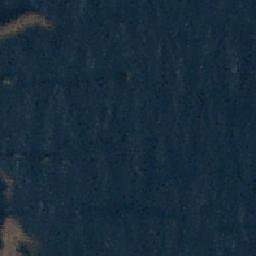debris: (1, 217, 34, 248), (17, 13, 51, 27), (1, 168, 15, 200), (1, 20, 19, 38)
